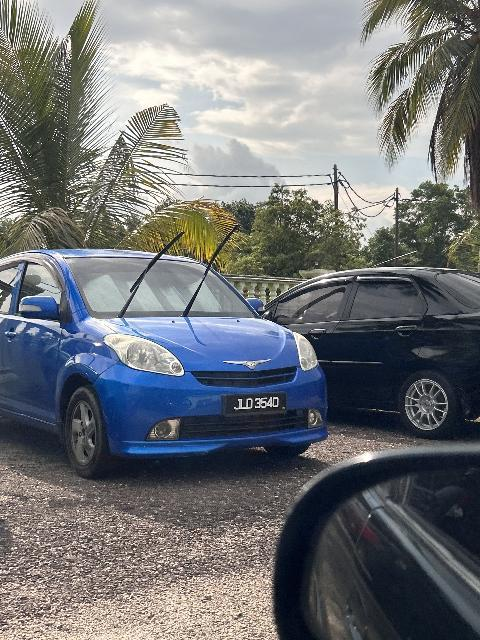JLO3540: (224, 392, 289, 419)
License_Plate: (224, 392, 289, 419)
car: (1, 247, 331, 467), (263, 270, 480, 435)
